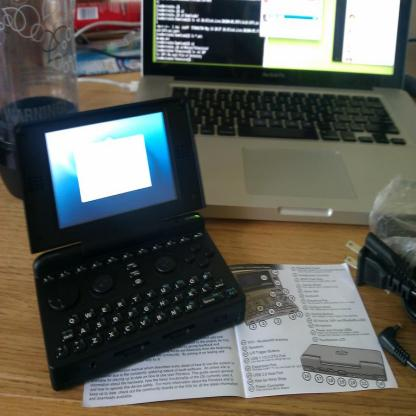board: (19, 103, 247, 397), (134, 0, 415, 226)
